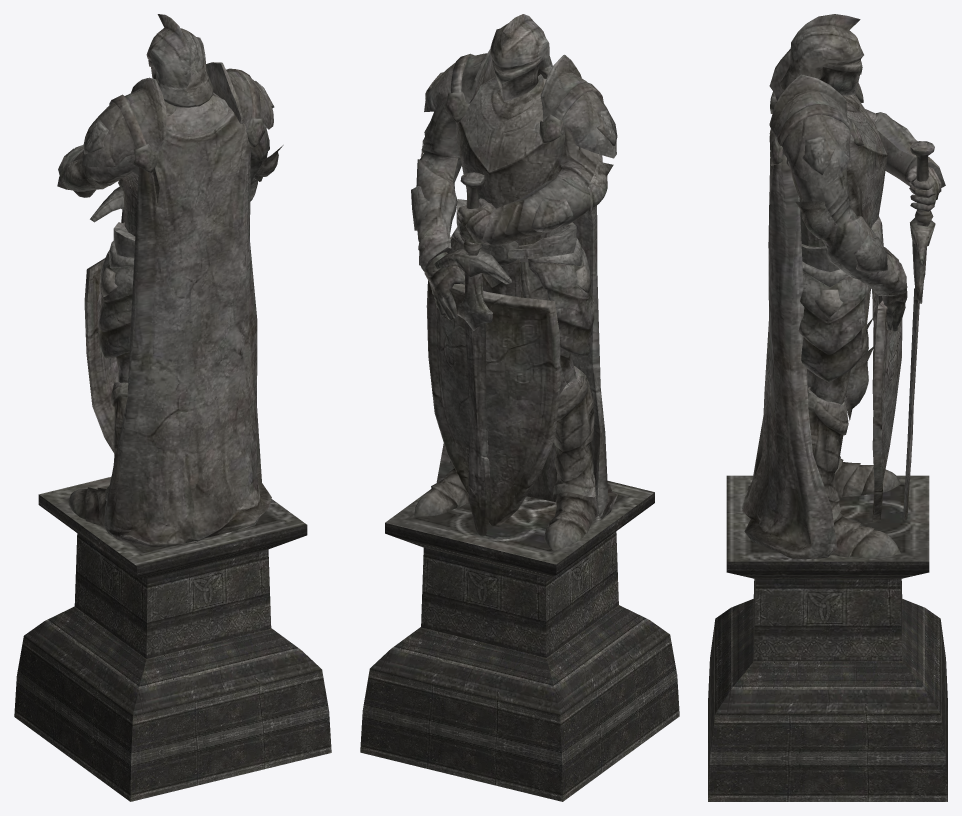
Rendered from eso_gu4_StatueC-transformed.glb.
The picture shows the model from 3 angles, left to right: view 1: azimuth 30°, elevation 25°; view 2: azimuth 150°, elevation 25°; view 3: azimuth 270°, elevation 25°; orthographic projection. The views are drawn at different scales.
Visible parts, largest first — view 1: default; view 2: default; view 3: default.
Part boxes in pixels (left/top/right/bottom): default: left=14, top=14, right=331, bottom=801; default: left=360, top=14, right=679, bottom=801; default: left=708, top=14, right=947, bottom=801.
Bounding box in the file's own units: 2.03 × 6.89 × 2.03.
2 materials, 2 textured.
